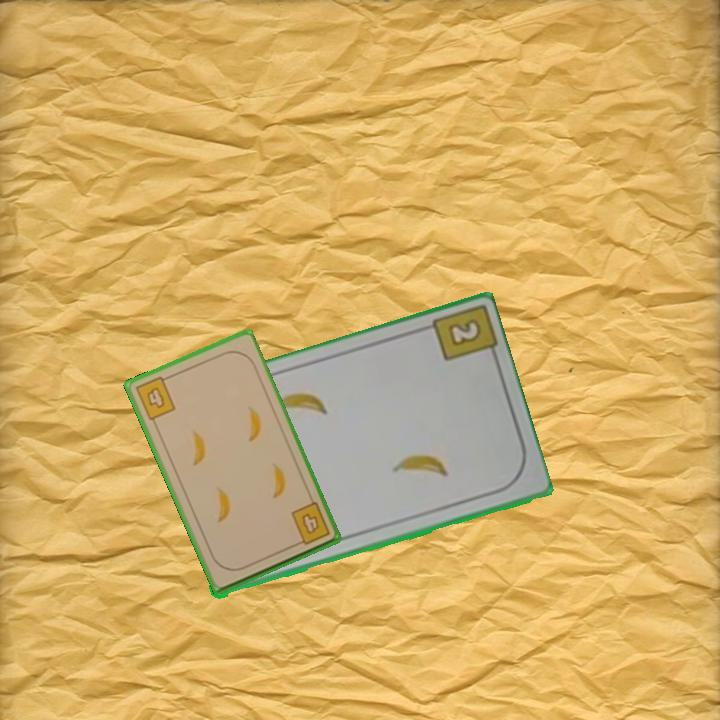2b: (444, 315, 484, 350)
4b: (132, 372, 178, 423), (287, 499, 332, 549)
